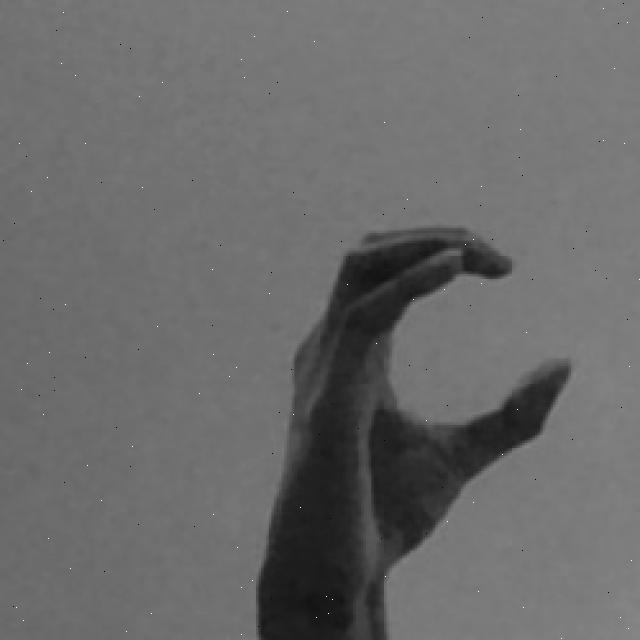C: (253, 220, 576, 640)
